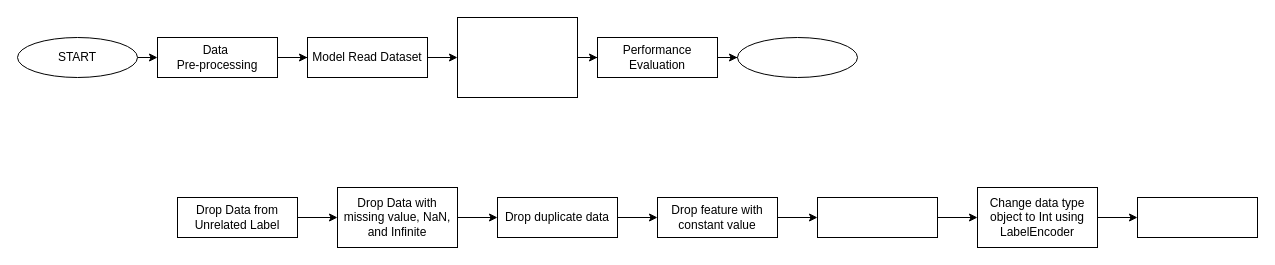
The diagram is 1275 pixels wide and 265 high, and some of its shapes have lost their labels. The shapes that lost their labels are listed below. From the top down, each one's centre as x and y in pixels, then its label:
At [517,57]: "Perform CNN Model for classification with feature selection".
At [797,57]: "END".
At [877,217]: "Change Label to Index".
At [1197,217]: "Under Sampling".
